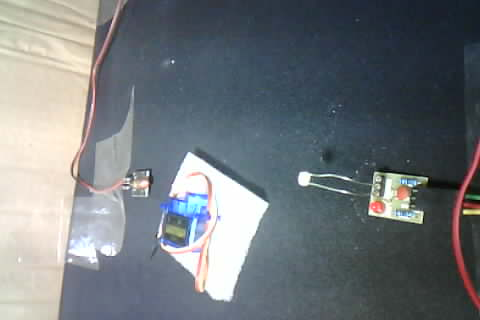motor: (151, 152, 254, 296)
